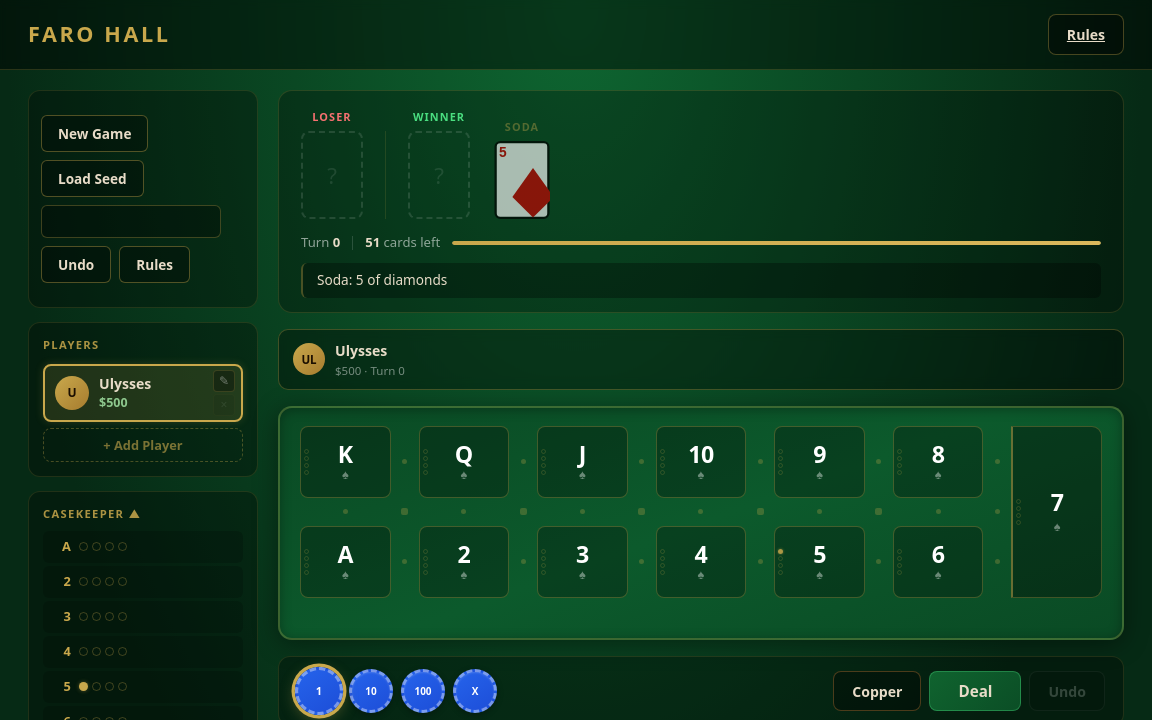
Test case: Game page custom bet chip › clicking X chip shows custom amount input
Click the button named "Custom bet amount": x=475, y=691 x1=453 y1=669 x2=497 y2=713
(page scrolled)
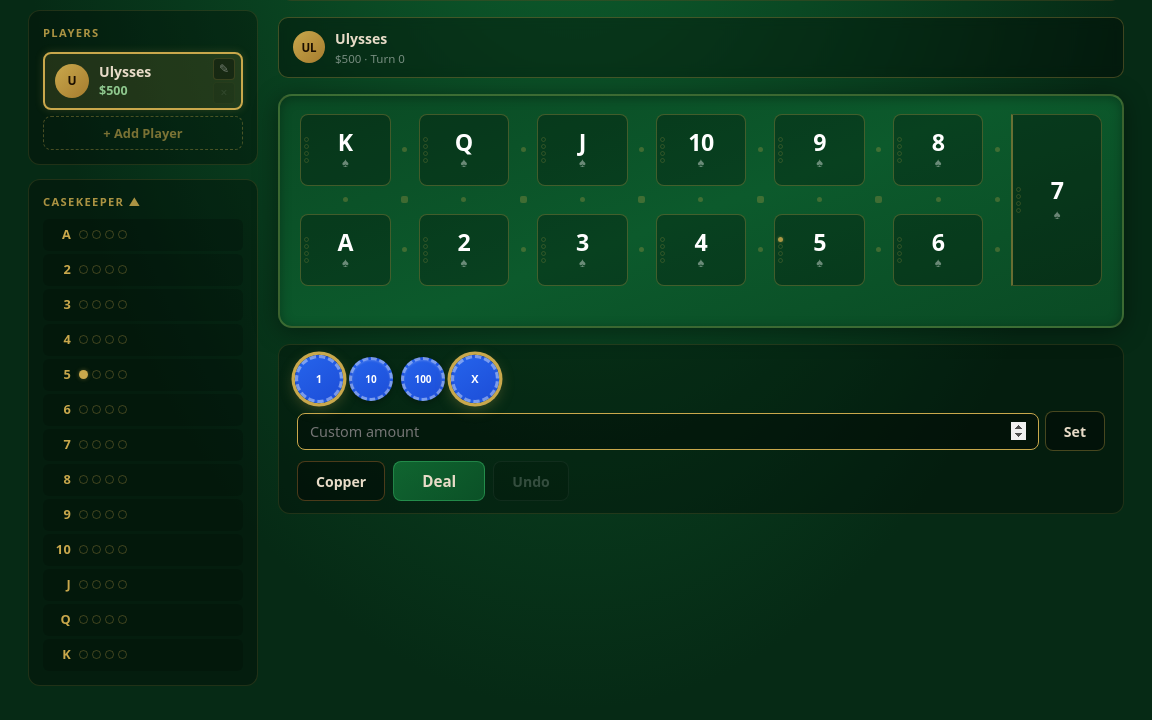
Now the number field named "Custom bet amount input" is shown, box x1=297 y1=413 x2=1039 y2=450
